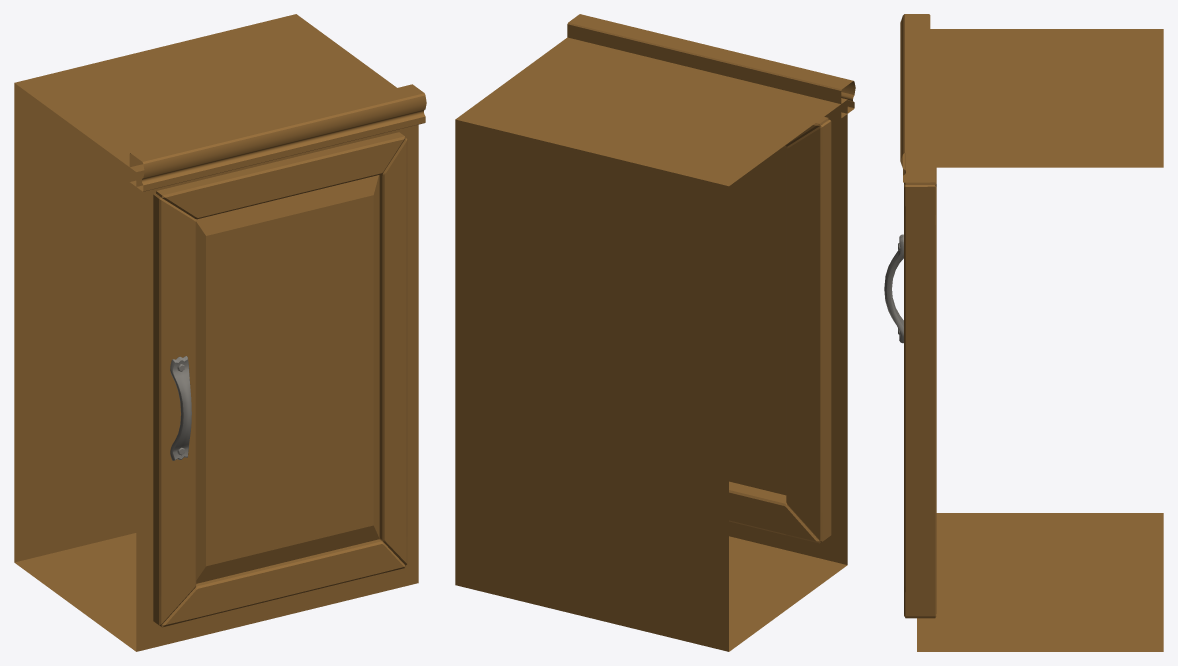
Rendered from Cabinet_1M.fbx.
3 renders of one model, left to right at view 1: azimuth 30°, elevation 25°; view 2: azimuth 150°, elevation 25°; view 3: azimuth 270°, elevation 25°, orthographic. The views are drawn at different scales.
Visible parts, largest first — view 1: Cabinet_1M; view 2: Cabinet_1M; view 3: Cabinet_1M.
Part boxes in pixels (x1=…): Cabinet_1M: x1=14, y1=14, x2=426, y2=651; Cabinet_1M: x1=455, y1=14, x2=855, y2=651; Cabinet_1M: x1=884, y1=14, x2=1163, y2=651.
Bounding box in the file's own units: 1 × 1.68 × 0.8494.
